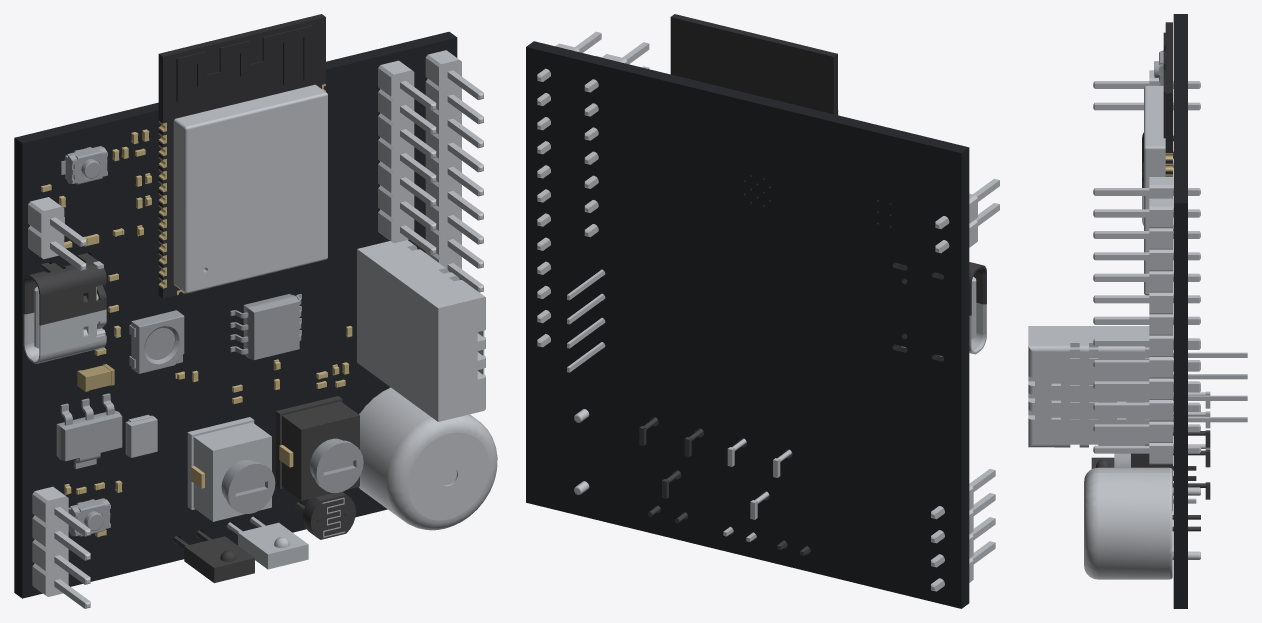
Rendered from forgeboard_intermediate_v2.glb.
3 views of the same model, side by side, from view 1: azimuth 30°, elevation 25°; view 2: azimuth 150°, elevation 25°; view 3: azimuth 270°, elevation 25° (orthographic). The views are drawn at different scales.
Parts seen in each view (by area): view 1: processor, pcb, usb_c_port, smd_032, smd_030, usbc_007, usbc_005, usbc, smd_036, usbc_004, usbc_002, smd_037 (+4 smaller); view 2: pcb, processor, usb_c_port, smd_030; view 3: processor, pcb, usb_c_port, smd_032, smd_036.
Part boxes in pixels (x1,y1,x2,y2): processor: (28, 14, 497, 608); pcb: (14, 31, 457, 598); usb_c_port: (23, 261, 308, 569); smd_032: (276, 396, 359, 500); smd_030: (23, 253, 106, 325); usbc_007: (230, 294, 301, 360); usbc_005: (56, 393, 122, 468); usbc: (129, 310, 184, 373); smd_036: (173, 530, 254, 583); usbc_004: (310, 438, 363, 492); usbc_002: (221, 460, 275, 513); smd_037: (295, 492, 355, 539); pcb: (526, 41, 969, 608); processor: (537, 14, 999, 591); usb_c_port: (723, 276, 986, 541); smd_030: (901, 262, 986, 315); processor: (1028, 22, 1247, 579); pcb: (1173, 14, 1187, 608); usb_c_port: (1142, 163, 1210, 503); smd_032: (1131, 444, 1172, 510); smd_036: (1091, 457, 1196, 480).
Size of the model in its own units: 48 by 54 by 23.5.
